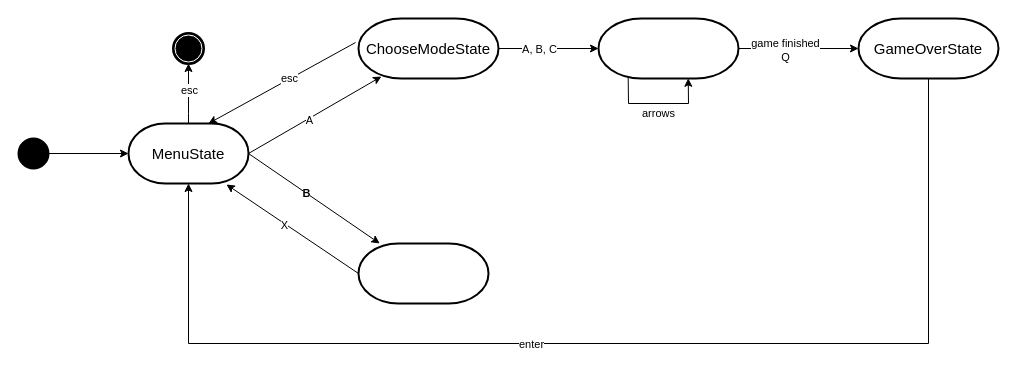
This 1016x369 diagram has some shape labels left out. The centre of each missing label's shape, as x and y in pixels:
GameState: the point at 668,48
InstructionsState: the point at 423,273
